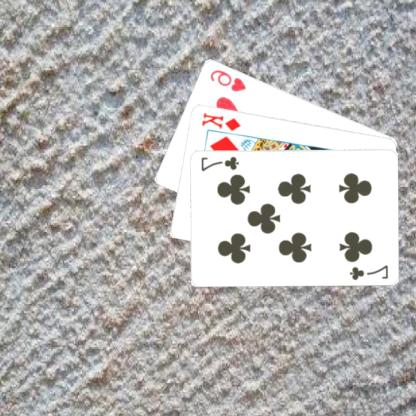6H: (209, 66, 250, 93)
7C: (348, 262, 391, 281), (199, 154, 242, 172)
KD: (200, 110, 244, 132)
